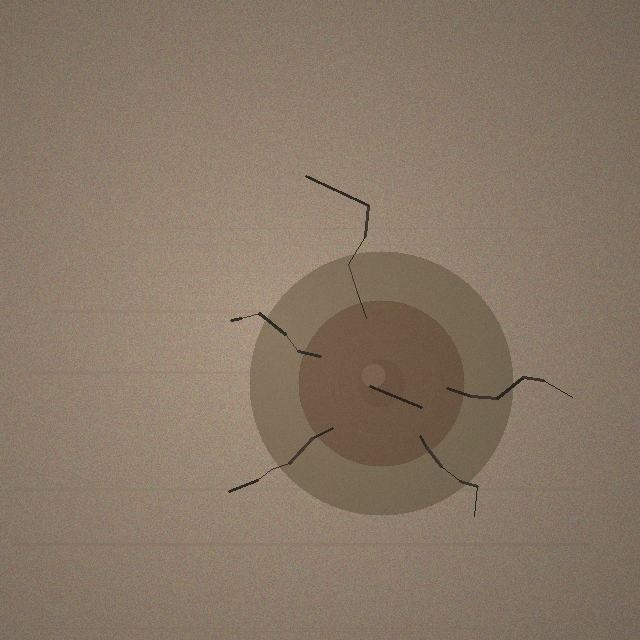crack: (249, 251, 513, 515)
